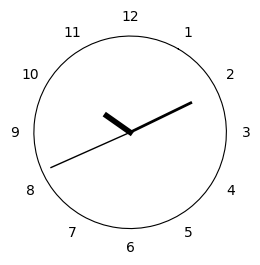12: (121, 9, 139, 23)
circle: (33, 36, 226, 229)
hours: (102, 112, 132, 134)
minutes: (131, 101, 193, 132)
seconds: (50, 134, 128, 168)
